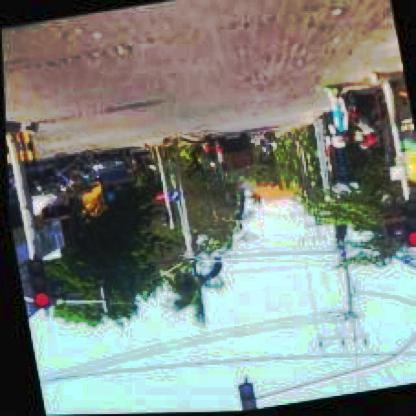Traffic Light -Red-: (19, 254, 54, 310), (400, 200, 414, 247)
